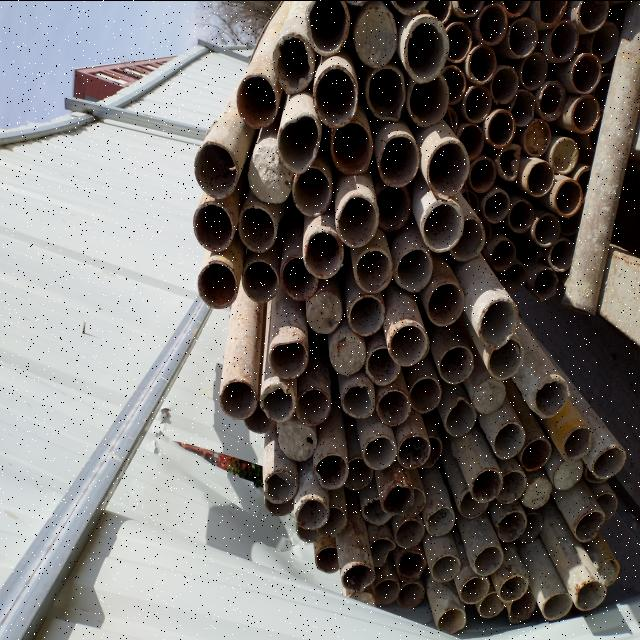pipe: (242, 138, 296, 210), (401, 19, 451, 84), (269, 28, 315, 98), (352, 4, 398, 73), (275, 106, 323, 172), (191, 138, 241, 198), (334, 188, 382, 250), (423, 135, 471, 197), (232, 72, 282, 130), (316, 63, 362, 126), (374, 130, 420, 192), (327, 118, 371, 180), (232, 204, 280, 258), (304, 1, 351, 56), (189, 200, 237, 252), (407, 72, 451, 128), (197, 253, 239, 310), (300, 226, 344, 280), (446, 213, 487, 270), (422, 196, 462, 254), (476, 293, 518, 348), (364, 68, 406, 123), (278, 250, 320, 304), (392, 245, 436, 295), (372, 184, 411, 240), (354, 244, 394, 298), (266, 334, 308, 384), (290, 166, 332, 216), (426, 277, 466, 329), (484, 331, 526, 379), (304, 288, 346, 336), (328, 326, 368, 376), (276, 418, 320, 462), (532, 372, 574, 418), (388, 320, 428, 368), (549, 449, 591, 493), (346, 292, 386, 338), (242, 256, 280, 304), (217, 376, 257, 421), (488, 419, 528, 464), (467, 460, 505, 506), (438, 20, 476, 66), (292, 488, 332, 530), (558, 420, 600, 460), (294, 384, 332, 428), (520, 466, 556, 512), (436, 344, 475, 386), (259, 381, 297, 424), (340, 376, 378, 419), (492, 461, 528, 506), (364, 342, 400, 387), (261, 464, 301, 504), (444, 391, 478, 438), (392, 483, 430, 525), (374, 386, 412, 428), (567, 50, 605, 92), (586, 22, 624, 64), (546, 18, 582, 62), (471, 374, 507, 416), (362, 429, 398, 471), (493, 504, 527, 548), (359, 491, 399, 528), (426, 495, 458, 541), (476, 4, 511, 46), (260, 484, 298, 522), (574, 575, 610, 615), (466, 44, 501, 85), (398, 430, 432, 472), (314, 452, 350, 491), (408, 374, 442, 415), (512, 510, 548, 548), (381, 478, 415, 518), (458, 488, 498, 522), (363, 534, 398, 572), (338, 558, 378, 591), (314, 539, 345, 581), (242, 399, 278, 435), (590, 444, 628, 478), (508, 16, 542, 54), (342, 454, 374, 494), (531, 0, 571, 32), (572, 507, 608, 542), (490, 62, 520, 104), (517, 438, 555, 471), (508, 86, 540, 125), (507, 588, 538, 628), (524, 158, 555, 198), (486, 236, 520, 272), (573, 1, 610, 34), (462, 85, 494, 123), (553, 176, 585, 214), (574, 164, 606, 202), (537, 78, 567, 118), (414, 433, 443, 473), (473, 542, 507, 576), (541, 588, 575, 622), (435, 603, 470, 636), (550, 137, 582, 173), (523, 116, 555, 152), (292, 510, 322, 548), (519, 52, 549, 90), (569, 96, 602, 130), (592, 552, 620, 592), (531, 212, 563, 247), (468, 156, 498, 193), (396, 548, 430, 580), (432, 550, 464, 584), (342, 586, 378, 616), (590, 488, 620, 524), (440, 64, 467, 104), (485, 110, 516, 144), (498, 572, 530, 604), (320, 502, 350, 536), (461, 574, 489, 610), (506, 200, 534, 236), (499, 260, 528, 294), (396, 578, 426, 610), (396, 517, 426, 549), (484, 186, 512, 220), (478, 588, 508, 619), (530, 268, 556, 303), (457, 123, 485, 155), (496, 145, 522, 179), (372, 576, 402, 605), (549, 239, 576, 271), (426, 0, 452, 24), (394, 0, 422, 16), (456, 1, 478, 20)
